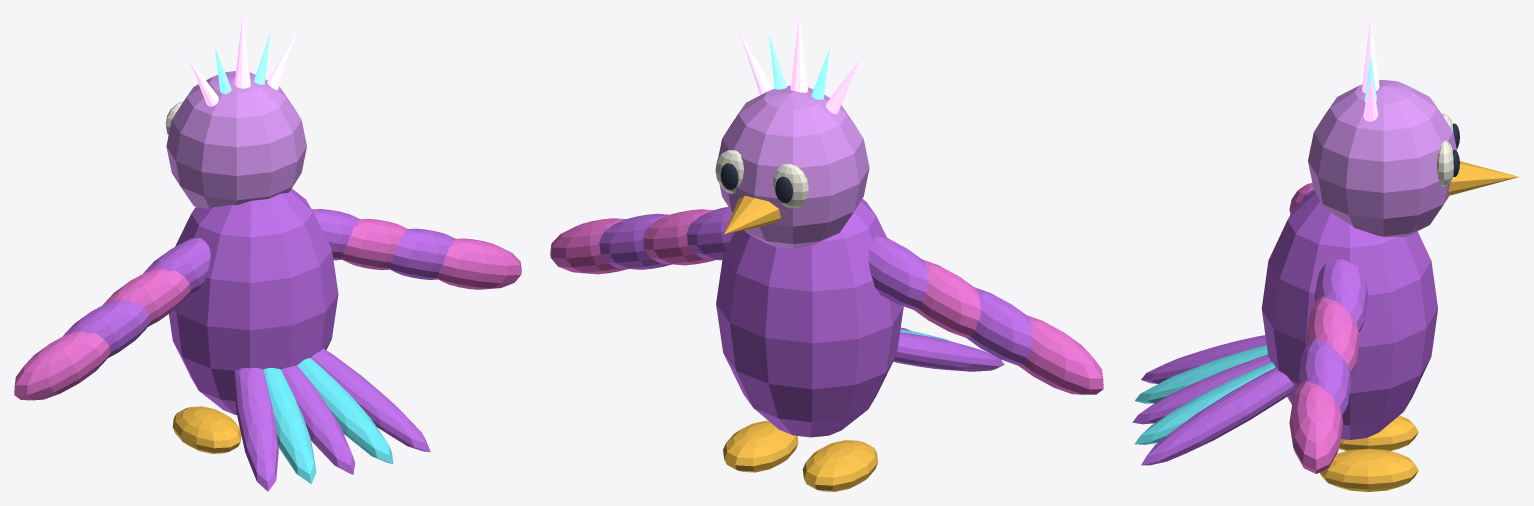
Rendered from Species_7.fbx.
The picture shows the model from 3 angles, left to right: view 1: azimuth 30°, elevation 25°; view 2: azimuth 150°, elevation 25°; view 3: azimuth 270°, elevation 25°; orthographic projection. The views are drawn at different scales.
Parts seen in each view (by area): view 1: Body.012, Head.012, WingL.009, TailFeather, WingR.009, TailFeather.004, TailFeather.003, TailFeather.001, TailFeather.002, WingL.007, WingL.008, Foot.020 (+5 smaller); view 2: Body.012, Head.012, WingL.009, WingL.006, WingL.007, WingL.008, Foot.020, TailFeather, Foot.021, WingR.009, WingR.007, WingR.008 (+5 smaller); view 3: Body.012, Head.012, TailFeather.004, WingR.009, Foot.021, WingR.007, WingR.008, WingR.006, TailFeather.003, TailFeather.002, TailFeather.001, TailFeather (+5 smaller).
Part boxes in pixels (left/top/right/bottom): Body.012: left=169, top=188, right=338, bottom=414; Head.012: left=166, top=71, right=306, bottom=208; WingL.009: left=14, top=331, right=110, bottom=400; TailFeather: left=233, top=368, right=278, bottom=491; WingR.009: left=437, top=238, right=521, bottom=289; TailFeather.004: left=311, top=348, right=430, bottom=452; TailFeather.003: left=297, top=358, right=393, bottom=464; TailFeather.001: left=263, top=367, right=316, bottom=483; TailFeather.002: left=281, top=365, right=354, bottom=474; WingL.007: left=103, top=269, right=190, bottom=326; WingL.008: left=63, top=300, right=150, bottom=357; Foot.020: left=172, top=406, right=241, bottom=453; Body.012: left=716, top=199, right=903, bottom=437; Head.012: left=718, top=85, right=869, bottom=248; WingL.009: left=1019, top=315, right=1103, bottom=394; WingL.006: left=868, top=235, right=928, bottom=310; WingL.007: left=914, top=259, right=980, bottom=338; WingL.008: left=966, top=287, right=1032, bottom=366; Foot.020: left=802, top=440, right=877, bottom=491; TailFeather: left=893, top=332, right=1004, bottom=371; Foot.021: left=723, top=420, right=798, bottom=472; WingR.009: left=550, top=218, right=627, bottom=274; WingR.007: left=643, top=209, right=715, bottom=265; WingR.008: left=599, top=213, right=671, bottom=269; Body.012: left=1261, top=191, right=1437, bottom=439; Head.012: left=1308, top=80, right=1457, bottom=237; TailFeather.004: left=1141, top=367, right=1295, bottom=465; WingR.009: left=1289, top=380, right=1342, bottom=473; Foot.021: left=1319, top=448, right=1418, bottom=491; WingR.007: left=1306, top=296, right=1359, bottom=374; WingR.008: left=1298, top=338, right=1351, bottom=416; WingR.006: left=1314, top=259, right=1368, bottom=332; TailFeather.003: left=1135, top=362, right=1275, bottom=444; TailFeather.002: left=1132, top=354, right=1270, bottom=424; TailFeather.001: left=1135, top=345, right=1267, bottom=403; TailFeather: left=1141, top=335, right=1266, bottom=383.
Size of the model in its own units: 750 by 596 by 461.
